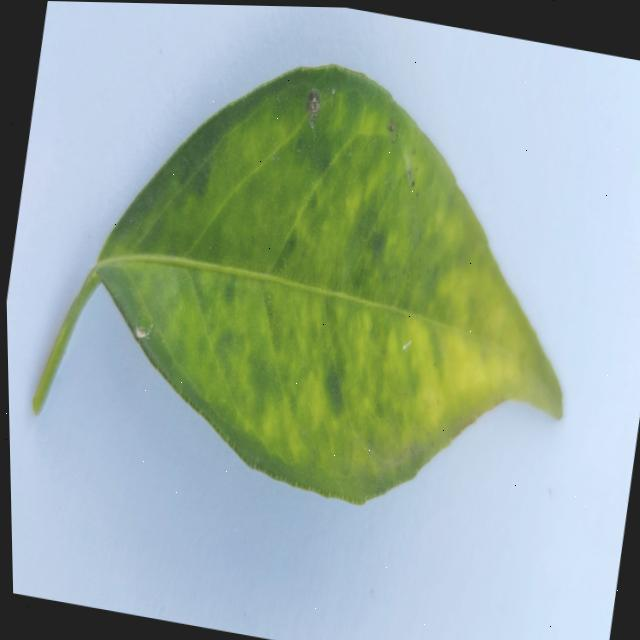greening: (33, 66, 561, 503)
